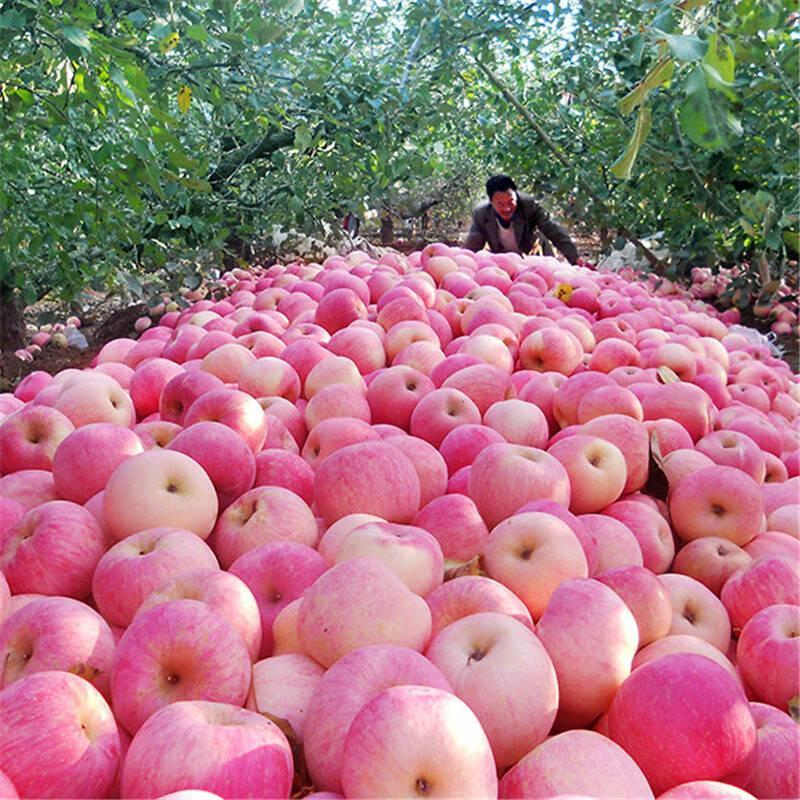apple: (604, 651, 756, 791), (109, 600, 256, 726), (346, 684, 500, 799), (533, 575, 637, 736), (4, 669, 124, 800), (297, 557, 433, 672), (122, 702, 290, 795), (89, 531, 225, 631), (479, 511, 589, 622), (99, 447, 218, 543), (4, 596, 114, 691), (3, 499, 101, 597), (316, 438, 420, 521), (468, 440, 572, 523), (164, 419, 257, 507), (53, 420, 148, 504), (218, 483, 319, 562), (667, 464, 764, 543), (548, 433, 625, 514), (184, 386, 271, 452), (639, 379, 714, 446), (366, 365, 439, 427), (410, 388, 480, 445), (53, 379, 134, 425)
